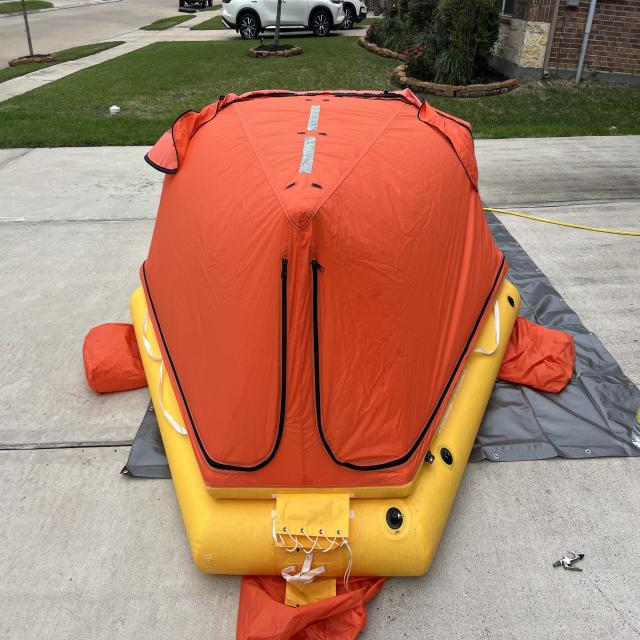Multi-person_life_raft: (84, 88, 577, 639)
